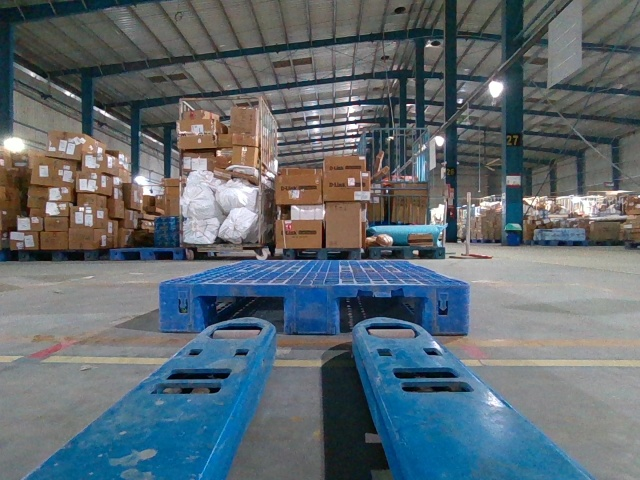block: (282, 284, 342, 334), (421, 282, 471, 334), (161, 281, 206, 334)
front: (161, 281, 470, 330)
hole pallet: (196, 289, 287, 335), (335, 292, 428, 334)
